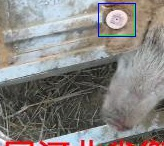text: (98, 3, 134, 35)
